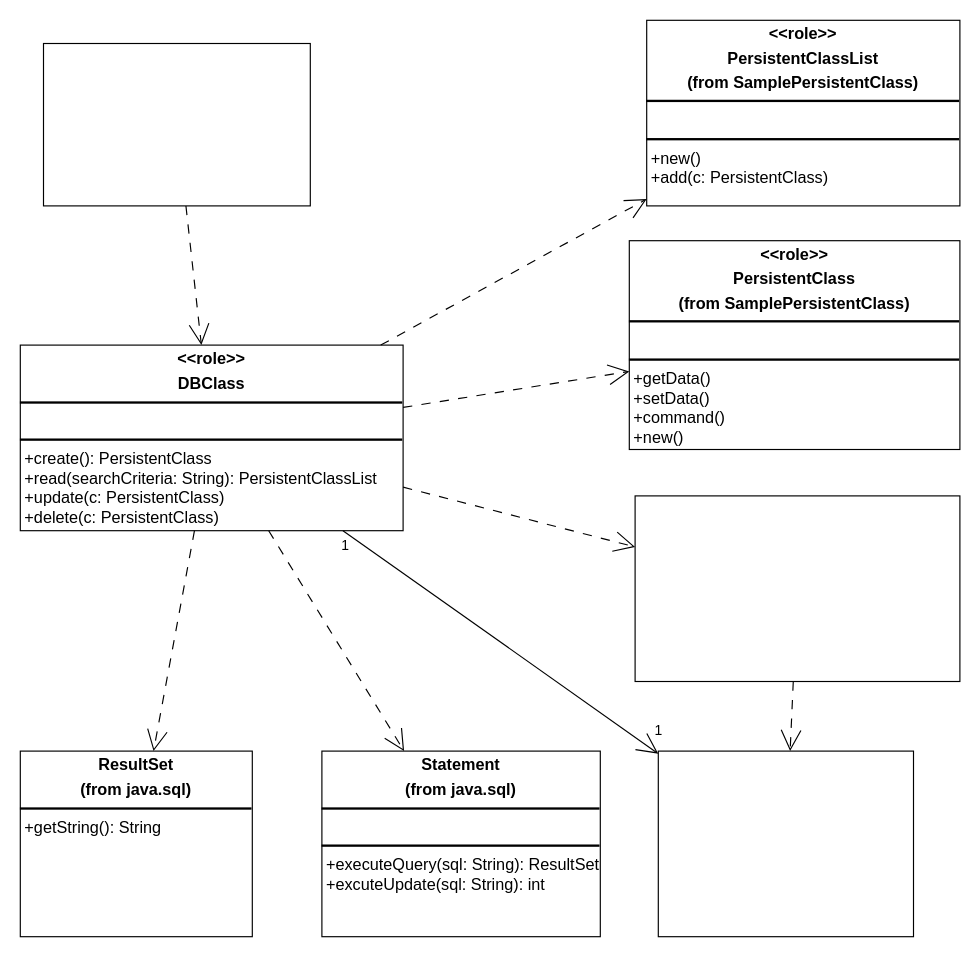
Some shapes in this 980 by 957 pixel diagram are drawn without their labels. Each missing label, with the box of its shape:
<<role>> PersistencyClient (from SamplePersistency Client): (42, 42, 310, 206)
Connection (from java.sql) +createStatement(): Statement: (657, 750, 913, 937)
DriverManager (from java.sql) +getConnection(url, user, pass): Connection: (634, 495, 960, 682)
